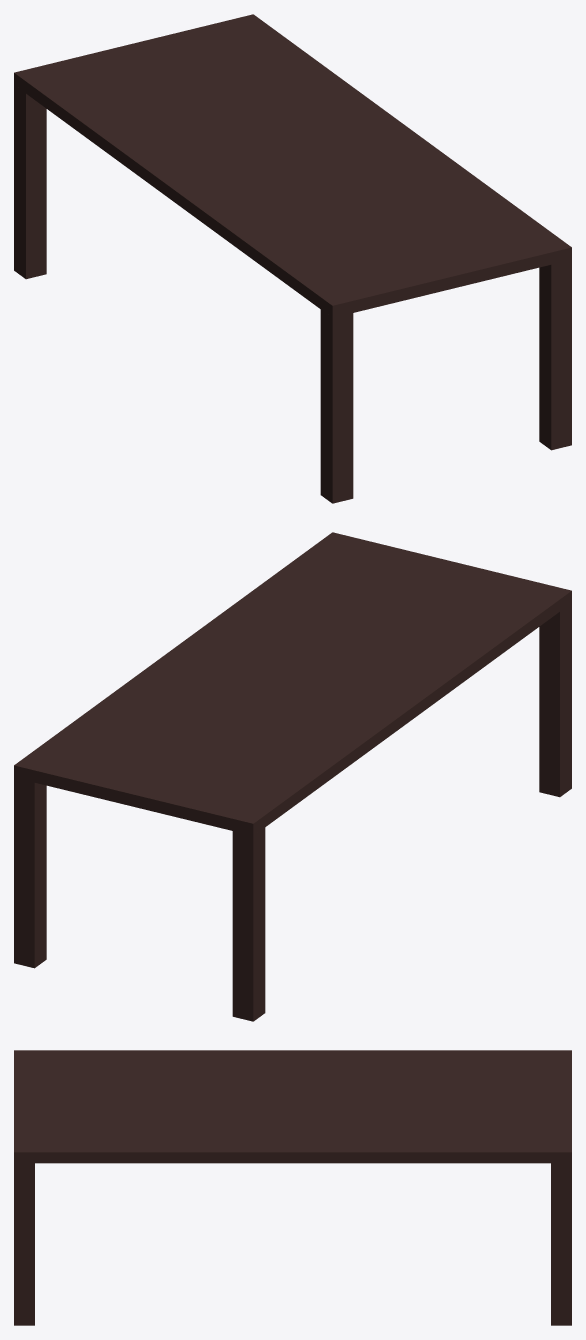
Rendered from GrandeTable_3.fbx.
The picture shows the model from 3 angles, top to bottom: view 1: azimuth 30°, elevation 25°; view 2: azimuth 150°, elevation 25°; view 3: azimuth 270°, elevation 25°; orthographic projection. The views are drawn at different scales.
Visible parts, largest first — view 1: pCube43, pCube47, pCube46, pCube49; view 2: pCube43, pCube49, pCube48, pCube47; view 3: pCube43, pCube48, pCube46.
Boxes of the visible parts, box(x1,y1,x2,y2) form: pCube43: box(14, 14, 571, 317); pCube47: box(320, 309, 353, 503); pCube46: box(539, 259, 571, 450); pCube49: box(14, 84, 46, 279); pCube43: box(14, 532, 571, 835); pCube49: box(232, 827, 265, 1021); pCube48: box(14, 777, 46, 968); pCube47: box(539, 602, 571, 797); pCube43: box(14, 1050, 571, 1163); pCube48: box(551, 1162, 571, 1325); pCube46: box(14, 1162, 34, 1325).
Bounding box in the file's own units: 50.06 × 39.53 × 115.
